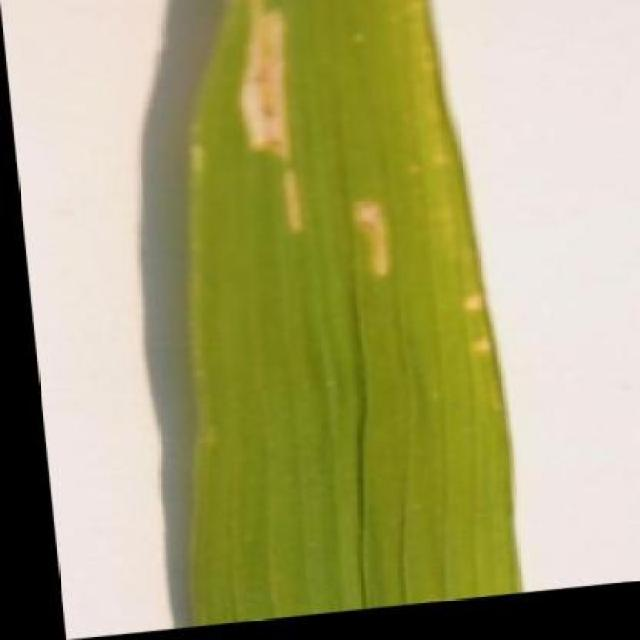Brown_Spot: (122, 0, 516, 631)
